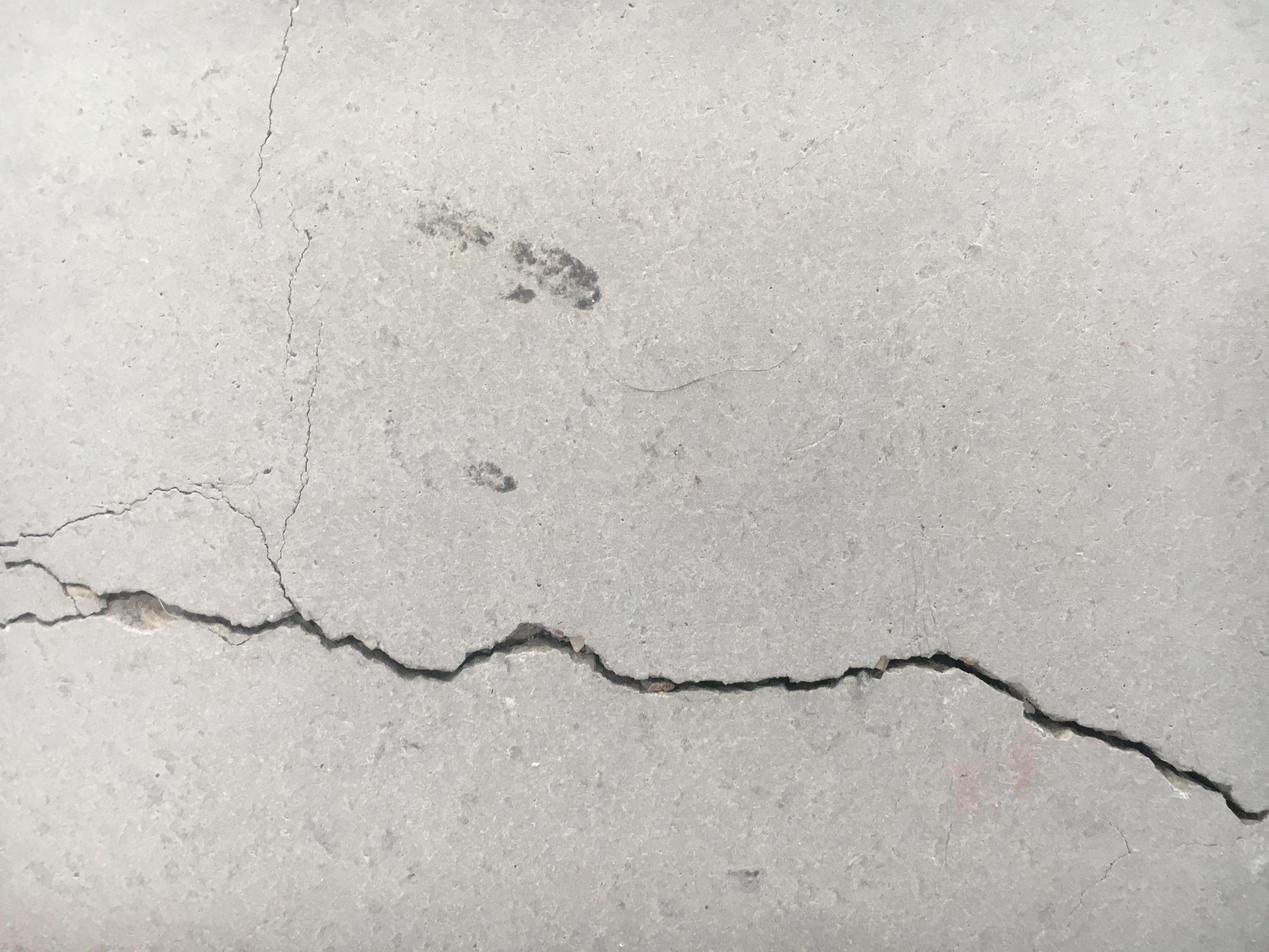Hairline-Crack: (65, 84, 321, 576), (278, 0, 300, 83)
Horizontal Settlement Crack: (3, 481, 1265, 825)
